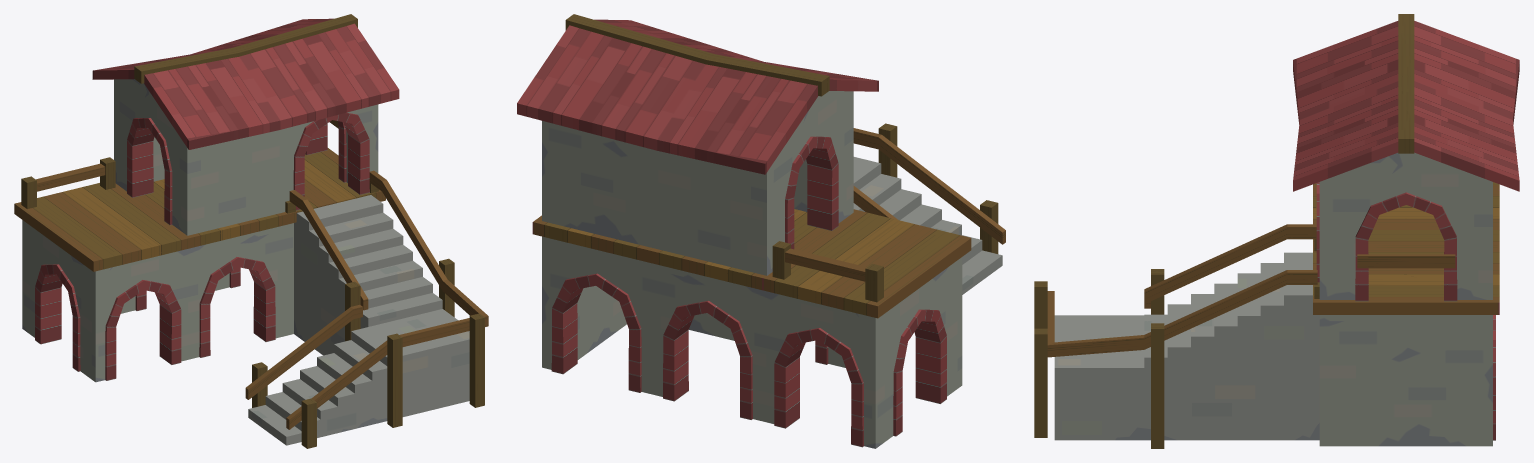
The model's file is Market 01.fbx.
The picture shows the model from 3 angles, left to right: view 1: azimuth 30°, elevation 25°; view 2: azimuth 150°, elevation 25°; view 3: azimuth 270°, elevation 25°; orthographic projection. The views are drawn at different scales.
Parts seen in each view (by area): view 1: Market_01; view 2: Market_01; view 3: Market_01.
Part boxes in pixels (bbox=[...]): Market_01: bbox=[14, 14, 488, 448]; Market_01: bbox=[517, 14, 1005, 448]; Market_01: bbox=[1034, 14, 1519, 448].
Size of the model in its own units: 912 by 775 by 1082.
